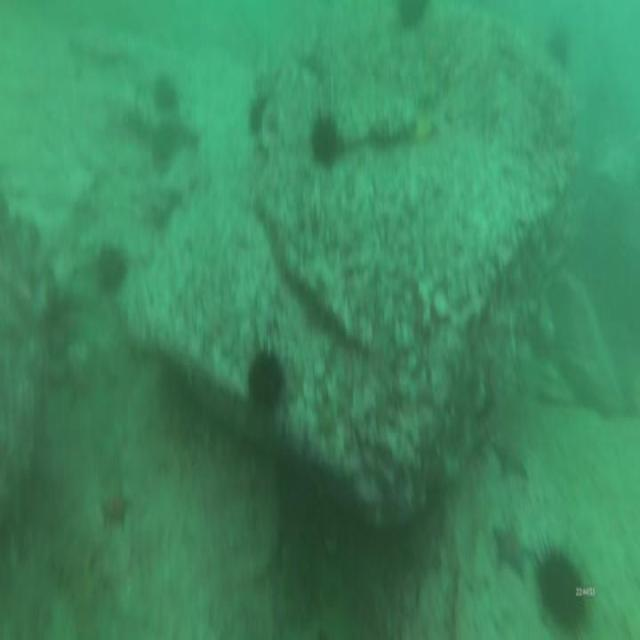echinus: (532, 540, 590, 637), (246, 343, 286, 419), (544, 19, 584, 77), (95, 242, 133, 303), (311, 106, 341, 172), (148, 122, 180, 175), (393, 0, 428, 40), (151, 66, 178, 114), (246, 92, 270, 139)
starfish: (492, 514, 536, 583), (489, 430, 531, 485), (96, 485, 134, 528)
